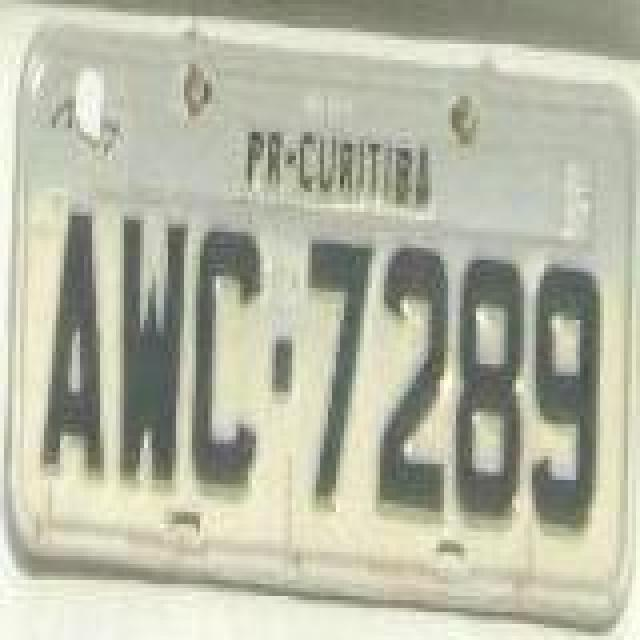2: (378, 242, 454, 518)
7: (304, 234, 376, 510)
8: (452, 252, 524, 516)
9: (530, 262, 606, 538)
A: (38, 208, 106, 480)
C: (188, 220, 260, 492)
W: (116, 210, 188, 494)
